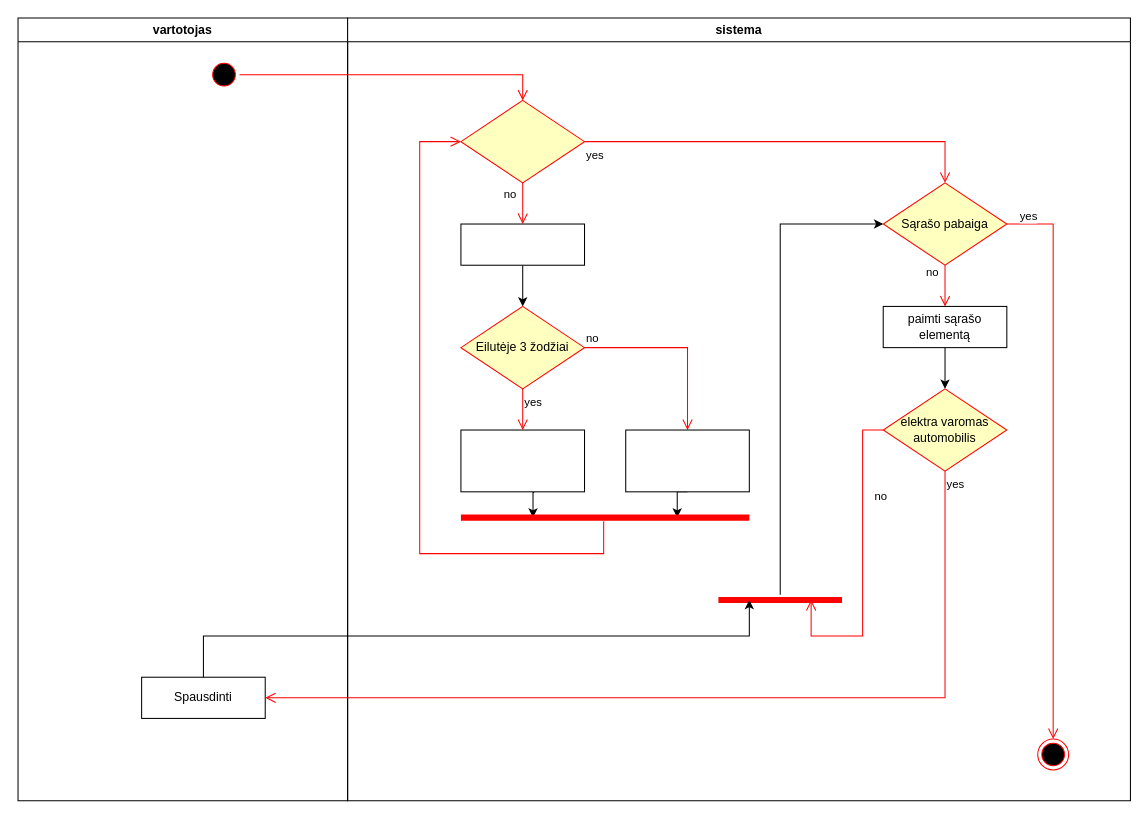
Some shapes in this 1148 by 819 pixel diagram are drawn without their labels. Each missing label, with the centre of its shape:
failo pabaiga: the point at 522,141
Skaityti eilutę: the point at 522,244
Įdėti į sąrašą Automobilį: the point at 687,460
Įdėti į sąrašą Transporto priemonę: the point at 522,460
